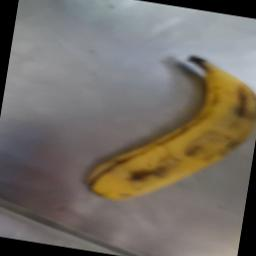Banana Overripe: (54, 21, 256, 233)
